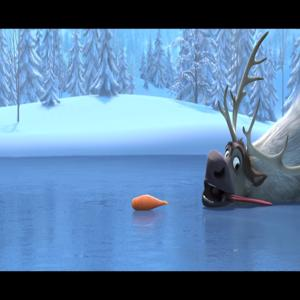carrot: (129, 185, 165, 224)
sven: (196, 53, 292, 217)
